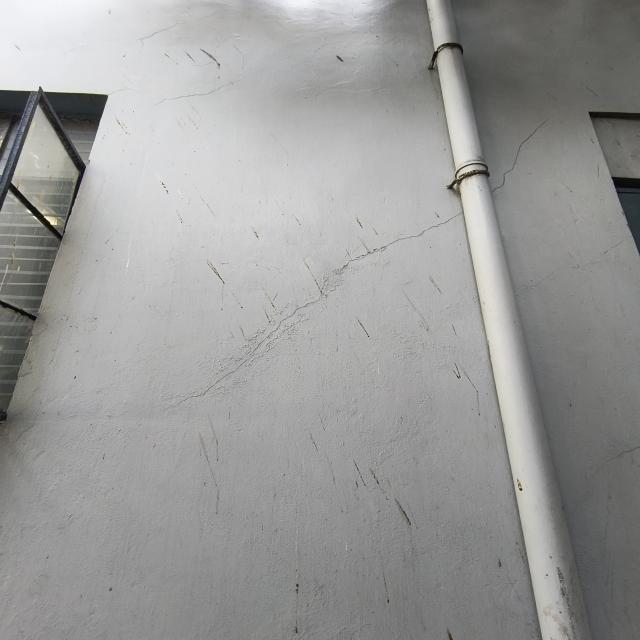Crack: (167, 209, 462, 411), (491, 111, 556, 200)
